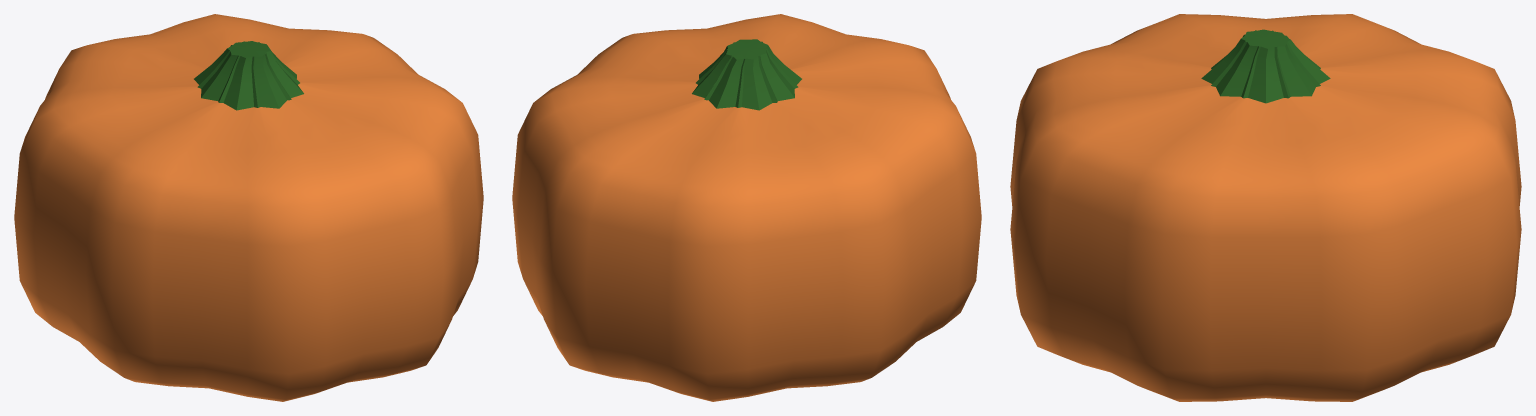
Rendered from pumpkin3.fbx.
3 views of the same model, side by side, from view 1: azimuth 30°, elevation 25°; view 2: azimuth 150°, elevation 25°; view 3: azimuth 270°, elevation 25° (orthographic). The views are drawn at different scales.
Parts seen in each view (by area): view 1: Cylinder.004; view 2: Cylinder.004; view 3: Cylinder.004.
Boxes of the visible parts, box(x1,y1,x2,y2) form: Cylinder.004: box(14, 14, 483, 401); Cylinder.004: box(512, 14, 981, 401); Cylinder.004: box(1010, 14, 1521, 401).
Bounding box in the file's own units: 169 × 118 × 186.
